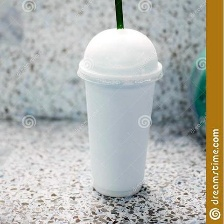drinking_straw: (113, 0, 125, 32)
glass: (73, 23, 166, 204)
